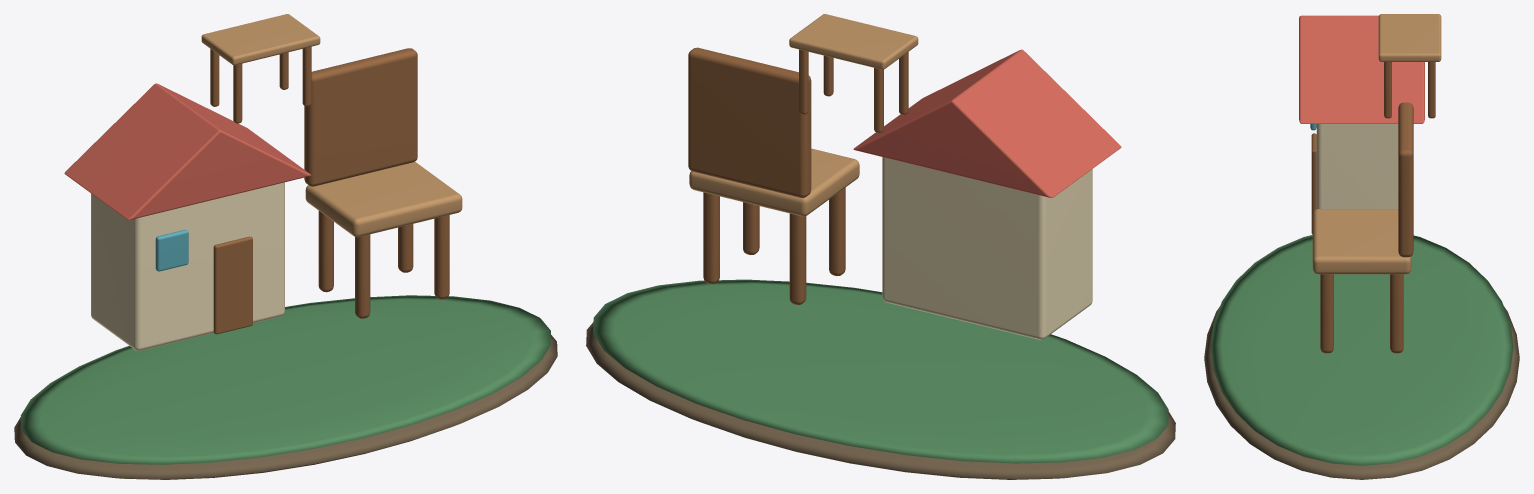
Rendered from complete-third-home-tools-furniture.glb.
3 renders of one model, left to right at view 1: azimuth 30°, elevation 25°; view 2: azimuth 150°, elevation 25°; view 3: azimuth 270°, elevation 25°, orthographic. The views are drawn at different scales.
Parts seen in each view (by area): view 1: complete-third-home-tools-furniture_surface_01, complete-third-home-tools-furniture_surface_04, complete-third-home-tools-furniture_surface_02, complete-third-home-tools-furniture_surface_03, complete-third-home-tools-furniture_surface_06, complete-third-home-tools-furniture_surface_00, complete-third-home-tools-furniture_surface_05; view 2: complete-third-home-tools-furniture_surface_01, complete-third-home-tools-furniture_surface_02, complete-third-home-tools-furniture_surface_04, complete-third-home-tools-furniture_surface_03, complete-third-home-tools-furniture_surface_00, complete-third-home-tools-furniture_surface_06; view 3: complete-third-home-tools-furniture_surface_01, complete-third-home-tools-furniture_surface_03, complete-third-home-tools-furniture_surface_06, complete-third-home-tools-furniture_surface_02, complete-third-home-tools-furniture_surface_04, complete-third-home-tools-furniture_surface_00.
Part boxes in pixels (x1,y1,x2,y2): complete-third-home-tools-furniture_surface_01: (20,295,551,464); complete-third-home-tools-furniture_surface_04: (210,46,449,334); complete-third-home-tools-furniture_surface_02: (91,182,284,350); complete-third-home-tools-furniture_surface_03: (64,83,311,220); complete-third-home-tools-furniture_surface_06: (201,14,462,237); complete-third-home-tools-furniture_surface_00: (14,335,557,479); complete-third-home-tools-furniture_surface_05: (155,230,188,271); complete-third-home-tools-furniture_surface_01: (593,279,1168,463); complete-third-home-tools-furniture_surface_02: (882,157,1092,339); complete-third-home-tools-furniture_surface_04: (688,47,908,304); complete-third-home-tools-furniture_surface_03: (853,49,1121,197); complete-third-home-tools-furniture_surface_00: (586,322,1175,479); complete-third-home-tools-furniture_surface_06: (689,14,918,216); complete-third-home-tools-furniture_surface_01: (1210,235,1513,465); complete-third-home-tools-furniture_surface_03: (1299,15,1424,123); complete-third-home-tools-furniture_surface_06: (1312,14,1441,274); complete-third-home-tools-furniture_surface_02: (1316,124,1398,208); complete-third-home-tools-furniture_surface_04: (1311,62,1435,353); complete-third-home-tools-furniture_surface_00: (1204,306,1519,479).
Size of the model in its own units: 4.56 by 2.97 by 2.5.
